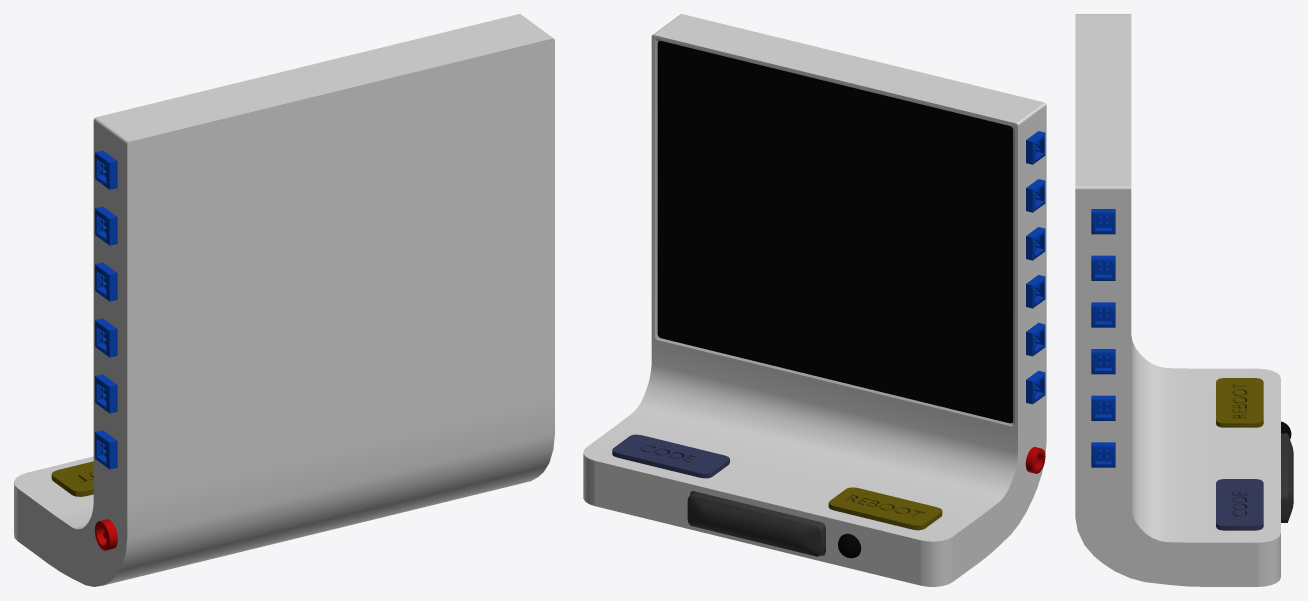
Rendered from Computer.gltf.
3 renders of one model, left to right at view 1: azimuth 30°, elevation 25°; view 2: azimuth 150°, elevation 25°; view 3: azimuth 270°, elevation 25°, orthographic. The views are drawn at different scales.
Visible parts, largest first — view 1: console; view 2: console, hdd; view 3: console, hdd.
Part boxes in pixels (left/top/right/bottom): console: left=14, top=14, right=554, bottom=586; console: left=583, top=14, right=1046, bottom=586; hdd: left=687, top=491, right=825, bottom=556; console: left=1075, top=14, right=1291, bottom=586; hdd: left=1281, top=433, right=1293, bottom=522.
Size of the model in its own units: 1.04 by 1.07 by 0.53.
